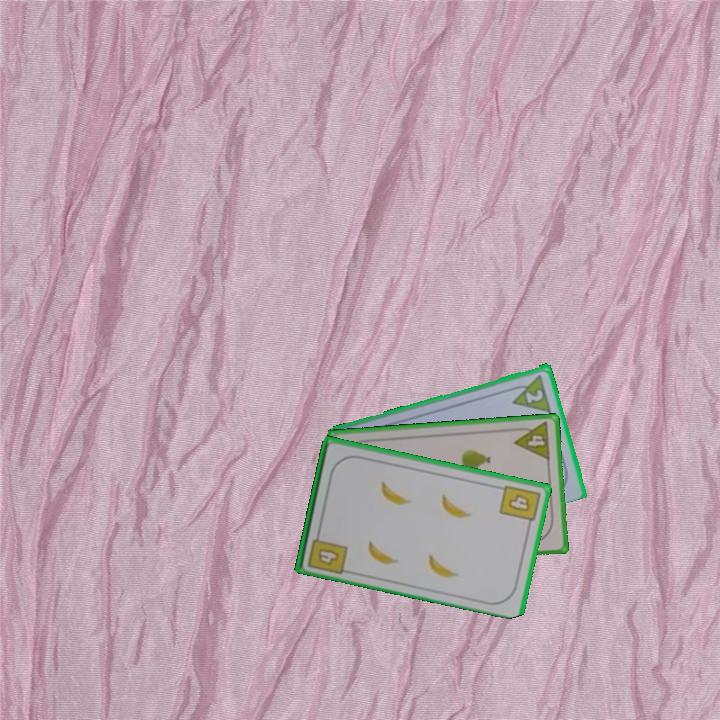2p: (522, 385, 546, 406)
4b: (496, 481, 543, 530), (304, 526, 350, 576)
4p: (510, 419, 553, 463)
